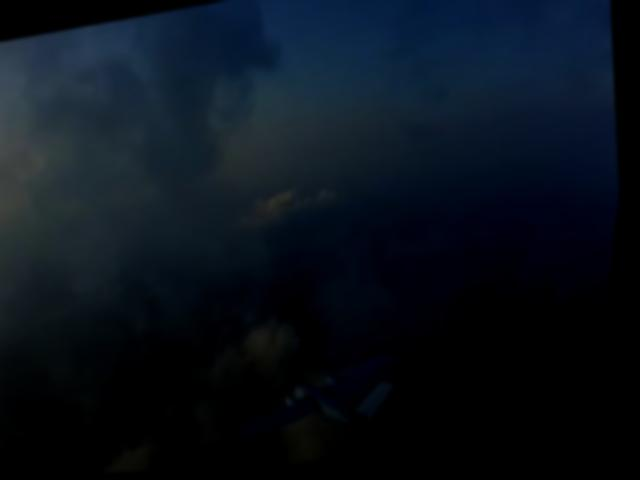iha: (230, 348, 426, 460)
